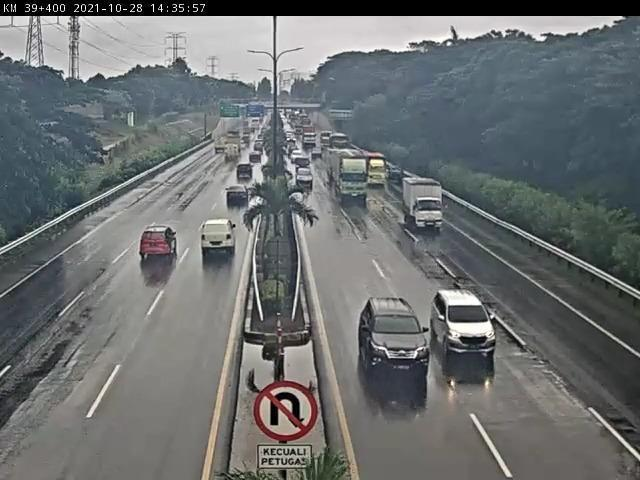car: (349, 295, 429, 381), (429, 286, 498, 360), (133, 219, 179, 272), (199, 219, 240, 267), (221, 185, 250, 214), (232, 169, 254, 187), (296, 166, 312, 184), (248, 154, 264, 169), (294, 146, 306, 161), (297, 154, 311, 166)
truck: (402, 172, 448, 242), (331, 151, 367, 204), (369, 153, 393, 197)
